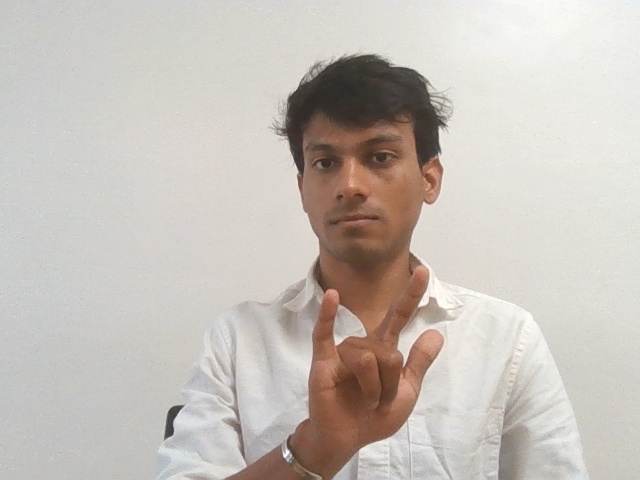ILoveYou: (295, 263, 446, 464)
